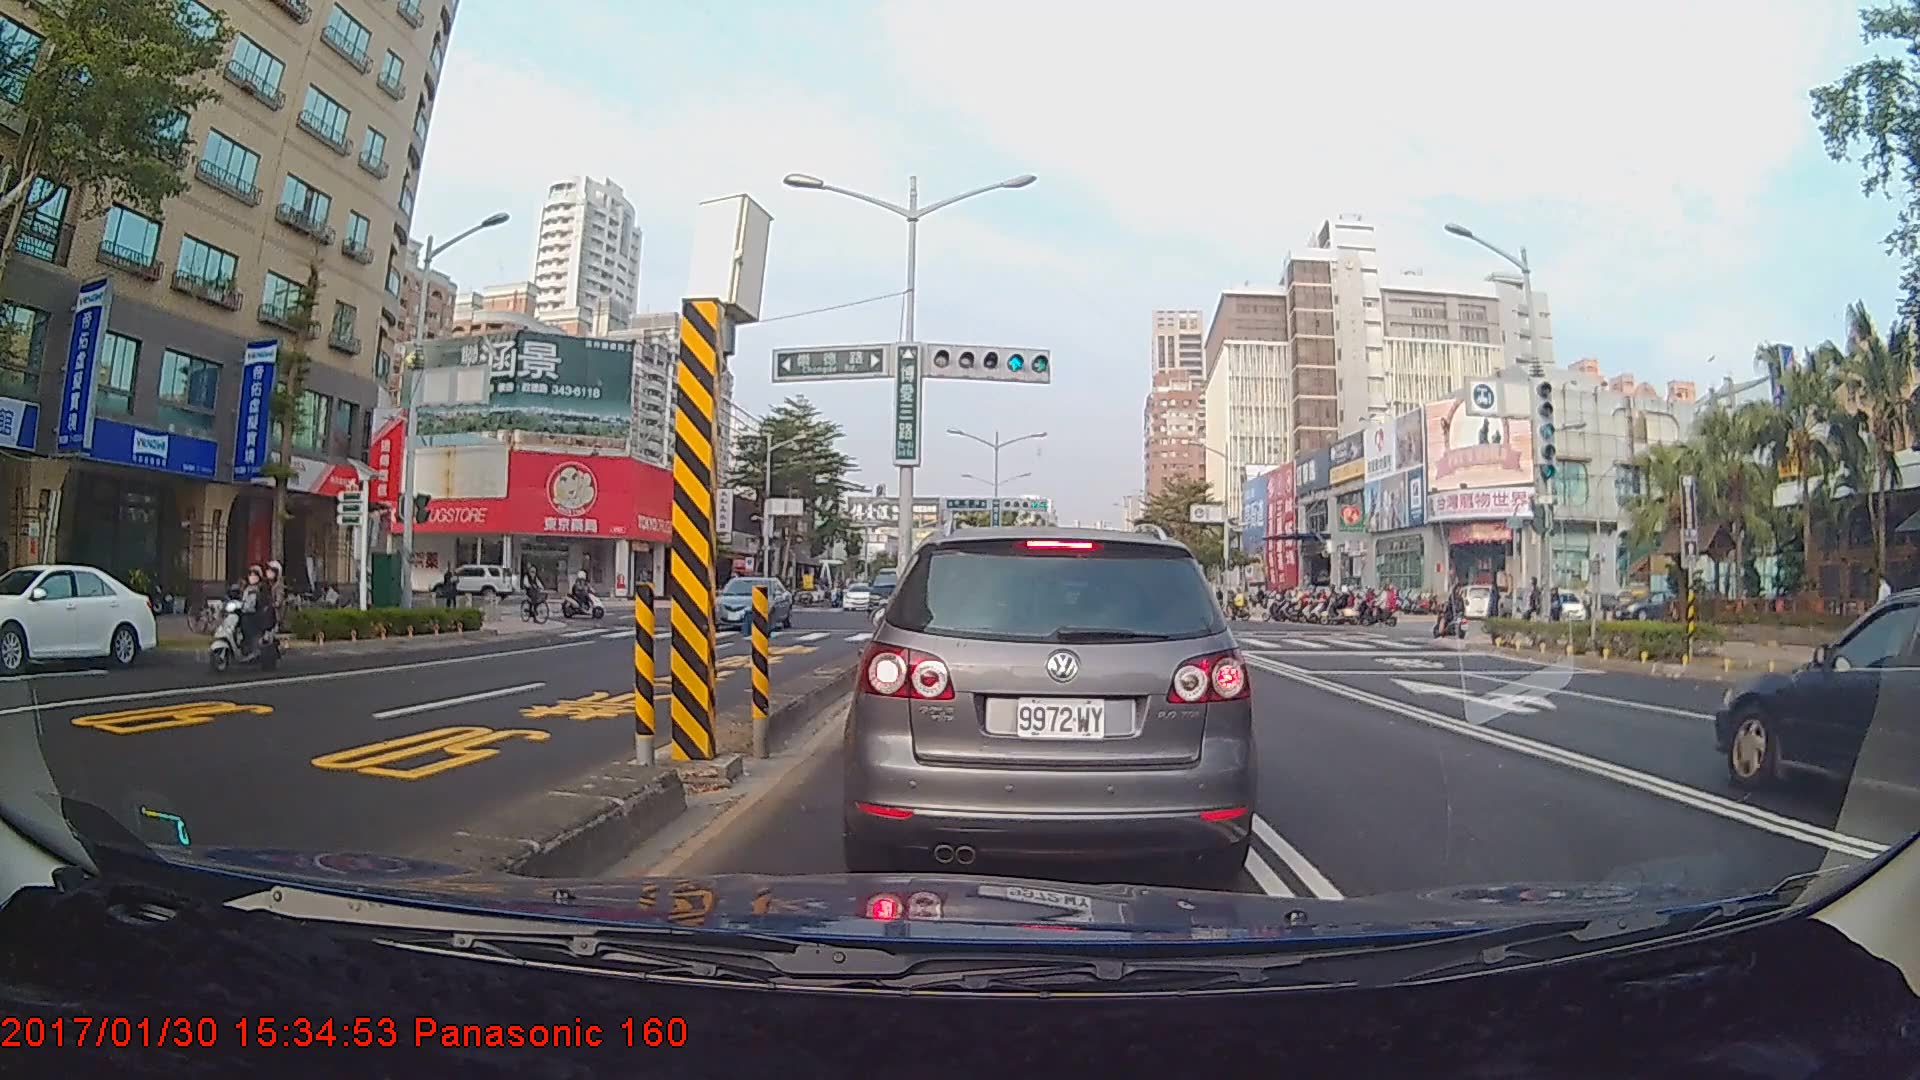pedestrian: (440, 558, 465, 621), (1484, 579, 1509, 637)
rider: (195, 559, 277, 681), (562, 568, 613, 625), (518, 559, 553, 629), (1436, 582, 1473, 646)
vehicle: (851, 522, 1253, 880), (1713, 583, 1920, 821), (0, 561, 157, 671), (705, 574, 792, 632), (866, 566, 919, 619), (841, 581, 883, 610)
